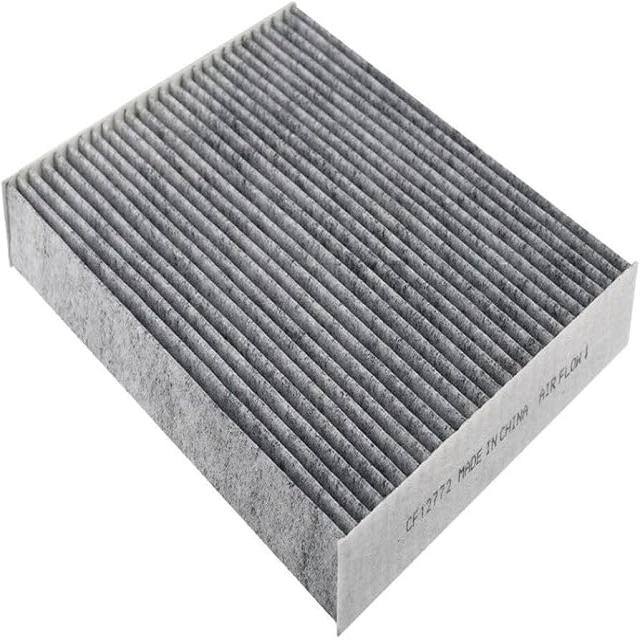air_filter: (6, 3, 639, 546)
